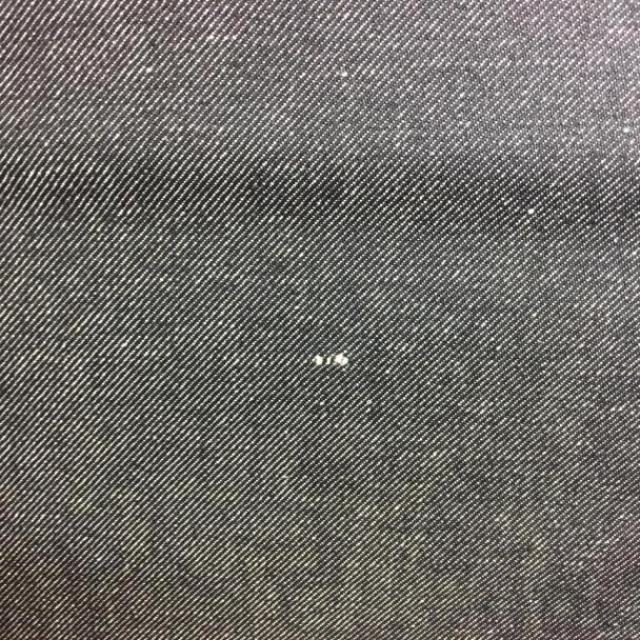Knot: (312, 353, 351, 368)
